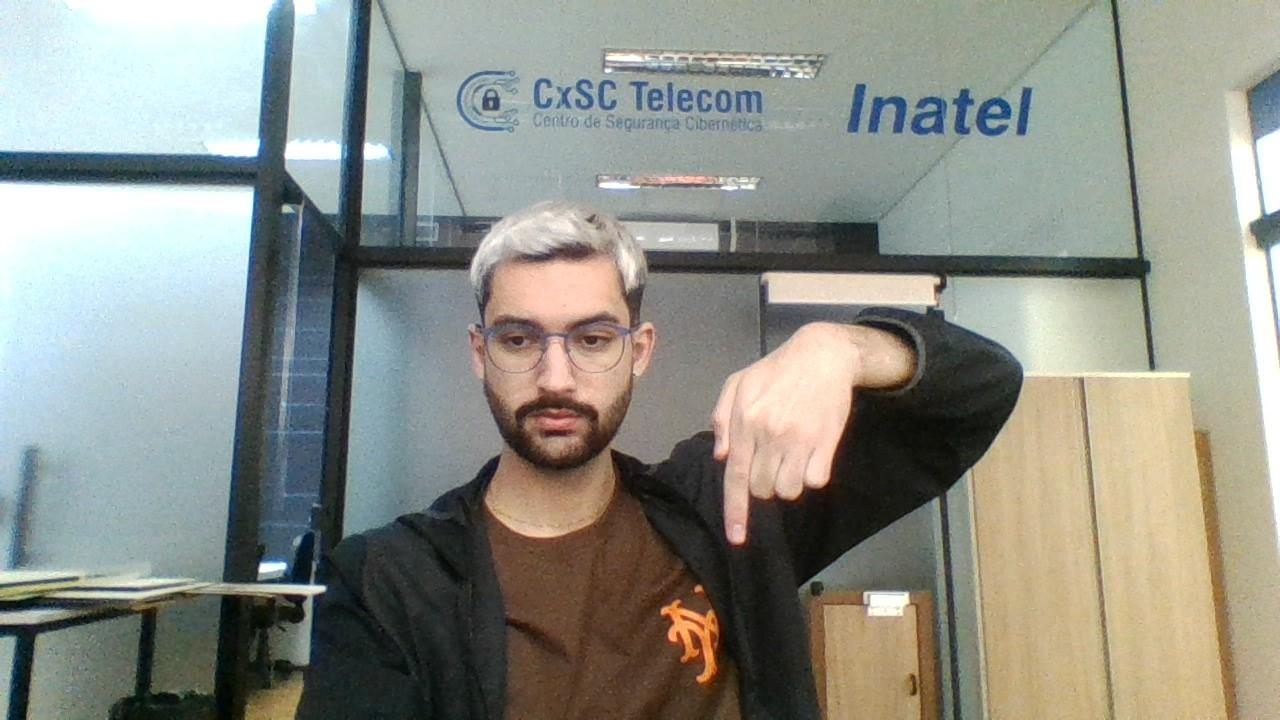Q: (710, 318, 856, 554)
